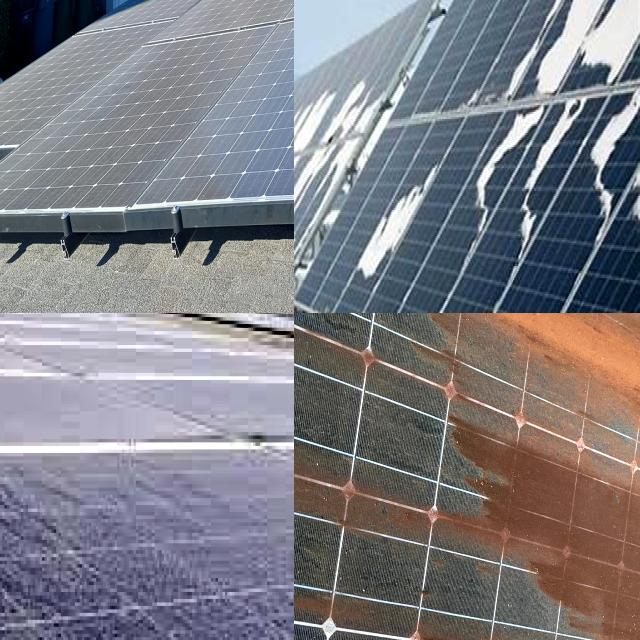dust: (455, 487, 640, 619), (86, 469, 292, 576), (294, 440, 454, 524), (0, 477, 79, 610), (0, 468, 63, 634), (540, 361, 640, 455), (349, 313, 477, 379), (507, 313, 640, 376), (116, 44, 212, 130), (94, 600, 294, 640), (221, 21, 294, 125), (0, 455, 35, 640), (79, 139, 186, 196), (294, 334, 423, 380), (3, 123, 68, 205), (212, 131, 294, 186), (211, 0, 294, 41), (58, 52, 104, 107), (125, 0, 195, 36)
panel: (362, 162, 436, 292), (468, 108, 542, 226), (478, 38, 552, 102), (534, 0, 584, 87), (573, 0, 620, 81), (332, 77, 382, 150), (588, 91, 640, 159), (294, 206, 330, 301), (520, 154, 548, 264), (602, 0, 640, 79), (294, 164, 321, 258), (549, 100, 591, 149), (294, 102, 315, 182), (590, 174, 622, 224), (294, 97, 331, 140), (294, 160, 319, 211), (632, 165, 640, 229)
